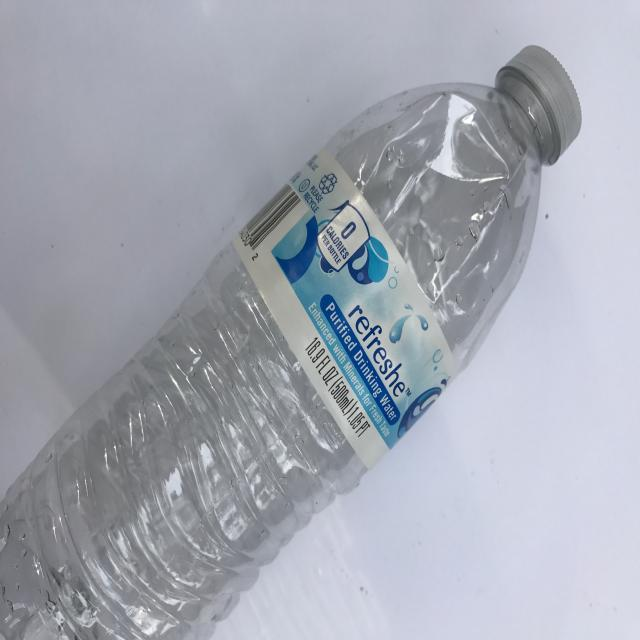Plastic: (0, 20, 606, 640)
